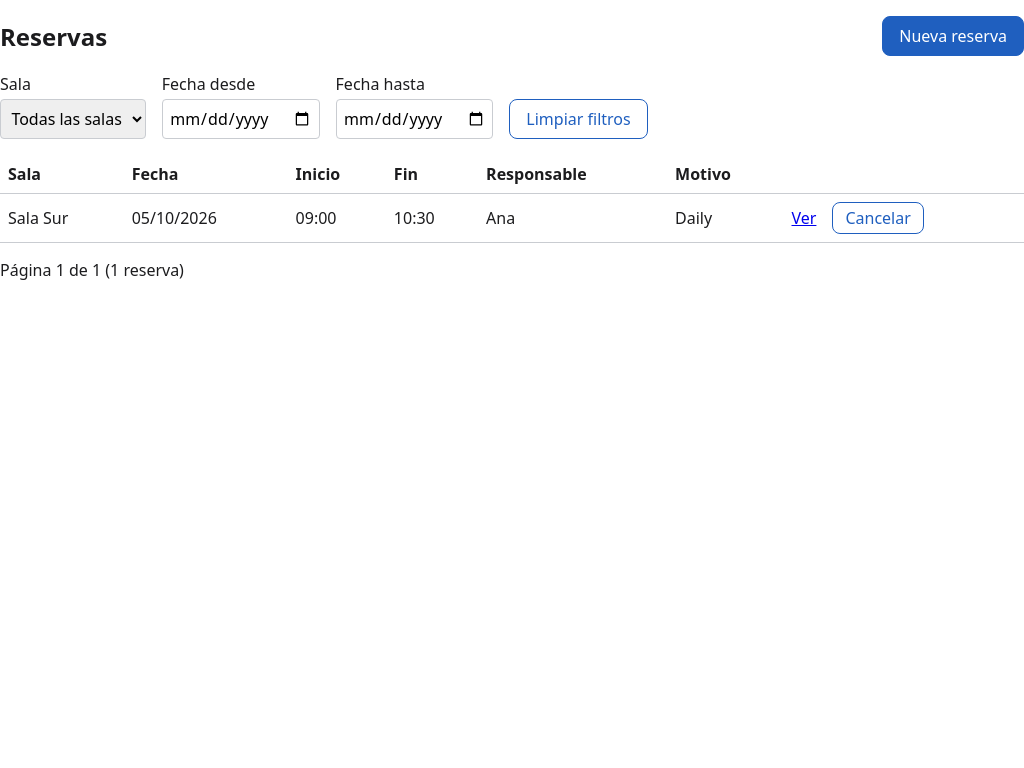
ReservaListComponent › ver y cancelar › tras cancelar, la recarga refleja la franja liberada (sin la reserva)
Click the button "Cancelar".
click(878, 218)  # box [832,202,924,234]
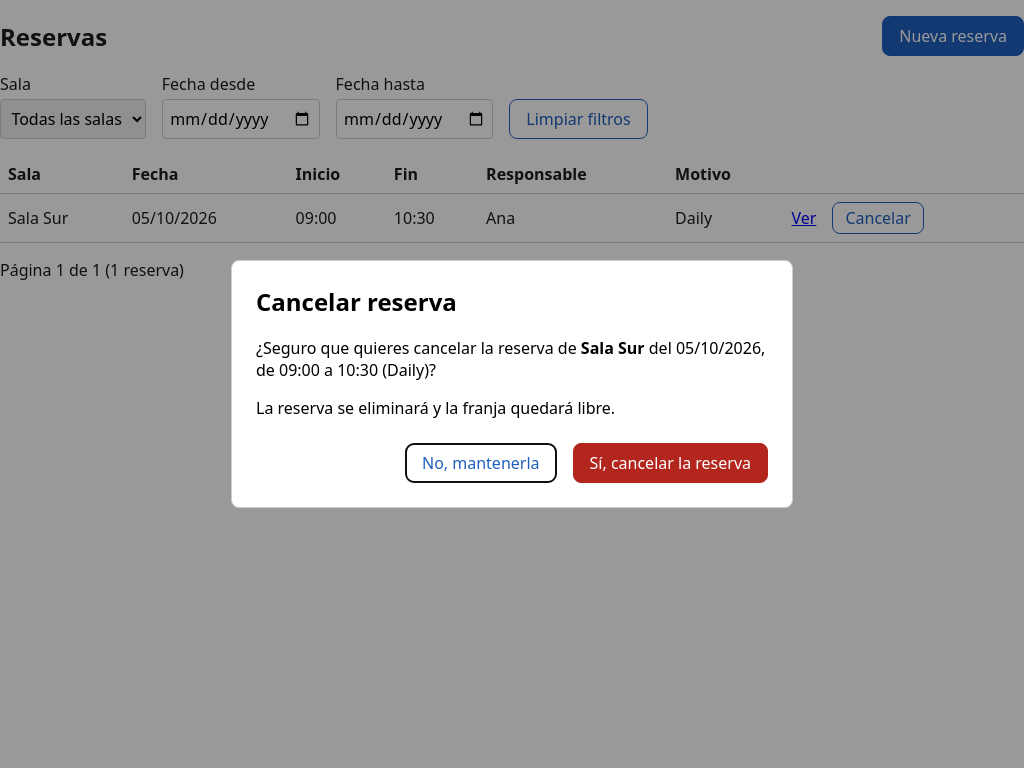
Click the button "Sí, cancelar la reserva".
click(670, 464)  # box [572,444,768,484]
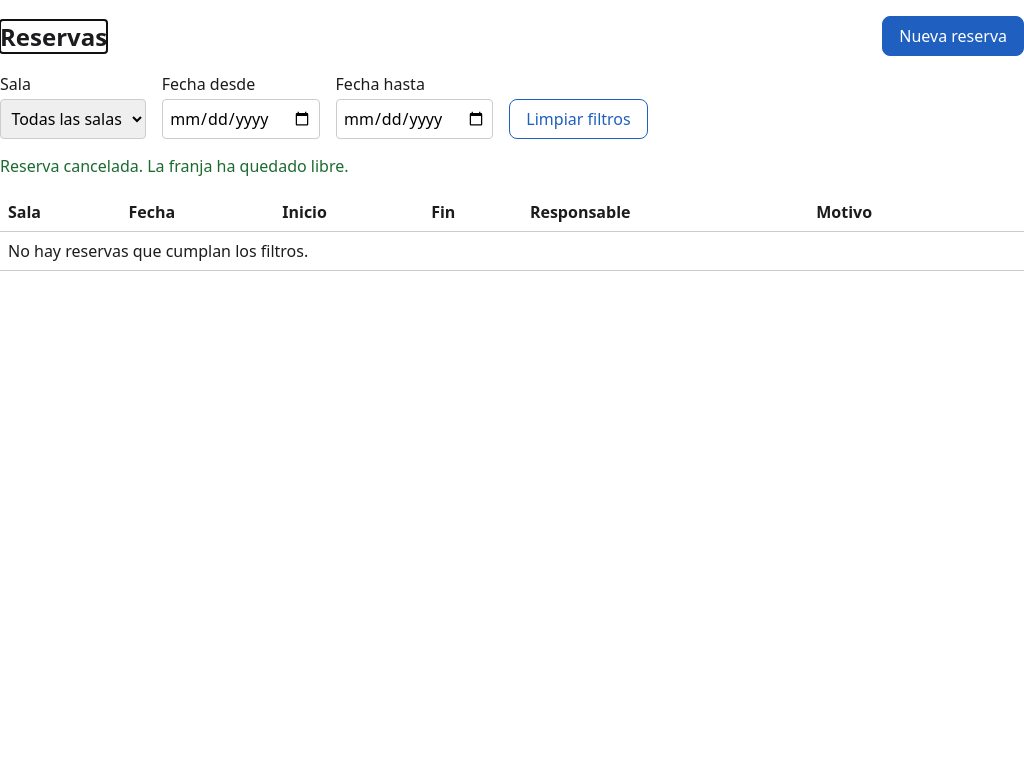
Result: the text "No hay reservas" is shown at [8,240,308,262]
